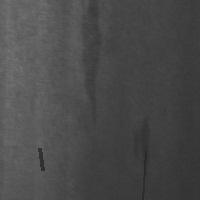inclusion: (75, 1, 108, 129), (127, 109, 157, 180), (140, 149, 147, 200), (37, 146, 44, 172)
